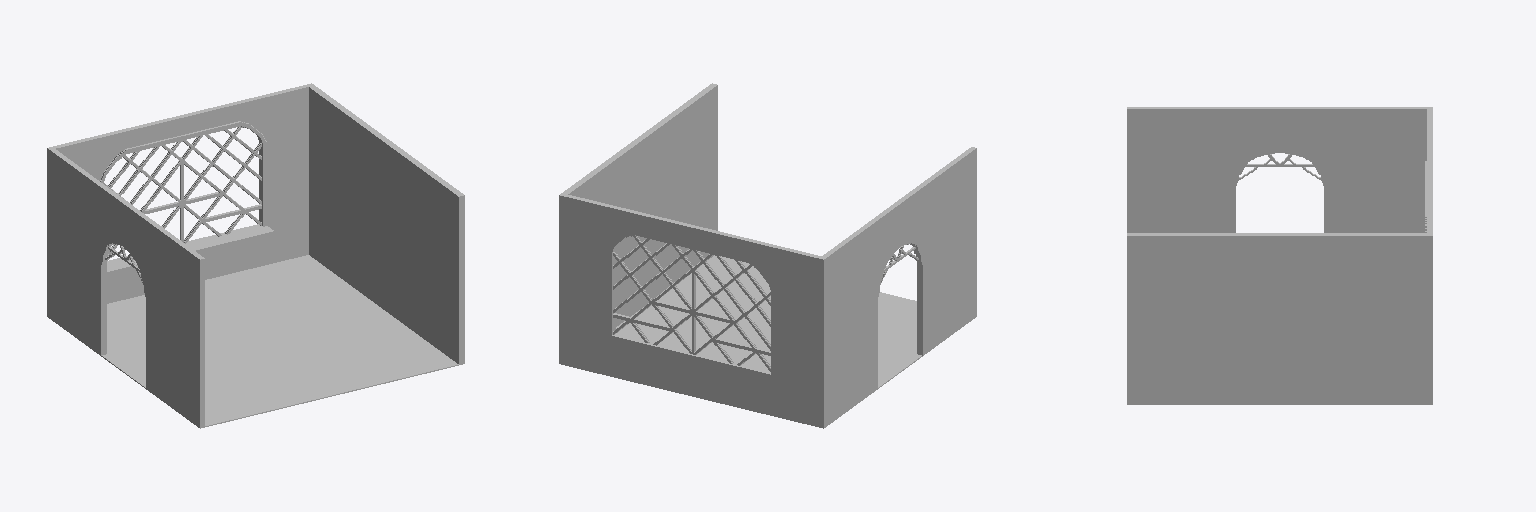
File: fddsss.obj
3 renders of one model, left to right at view 1: azimuth 30°, elevation 25°; view 2: azimuth 150°, elevation 25°; view 3: azimuth 270°, elevation 25°, orthographic.
Parts seen in each view (by area): view 1: object 1; view 2: object 1; view 3: object 1.
Part boxes in pixels (x1,y1,x2,y2): object 1: (47,83,464,428); object 1: (559,83,976,428); object 1: (1127,107,1432,404).
Bounding box in the file's own units: 25.6 × 15.6 × 25.6.